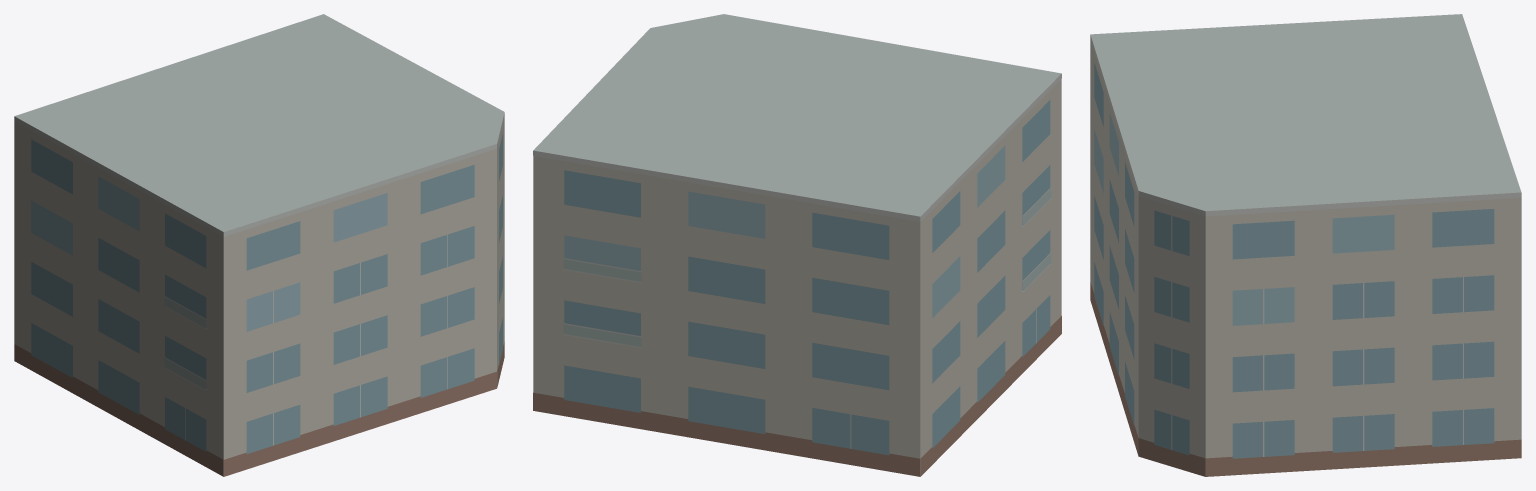
File: survey-upis-32631315.glb
3 views of the same model, side by side, from view 1: azimuth 30°, elevation 25°; view 2: azimuth 150°, elevation 25°; view 3: azimuth 270°, elevation 25° (orthographic). The views are drawn at different scales.
Parts seen in each view (by area): view 1: survey-upis-32631315.tmp; view 2: survey-upis-32631315.tmp; view 3: survey-upis-32631315.tmp.
Boxes of the visible parts, x1,y1,x2,y2 form: survey-upis-32631315.tmp: (14,14,504,476); survey-upis-32631315.tmp: (533,14,1061,476); survey-upis-32631315.tmp: (1090,14,1521,476).
Bounding box in the file's own units: 19.75 × 12.4 × 18.25.
